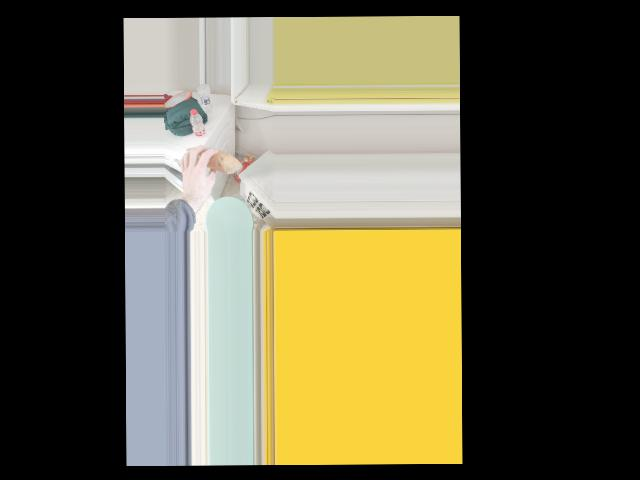sweet_potato: (183, 146, 240, 172)
